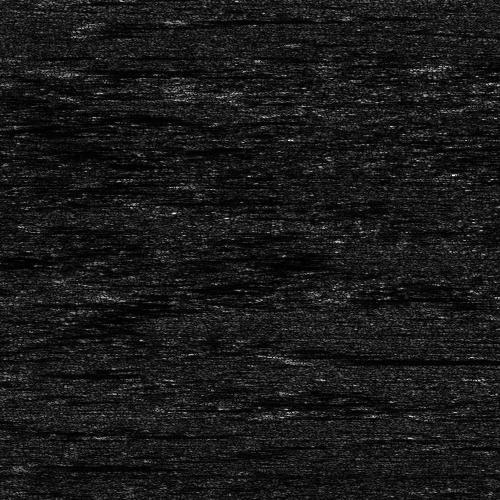object: (10, 63, 73, 74), (140, 14, 213, 21), (411, 63, 474, 68), (280, 356, 333, 361), (9, 459, 30, 466)
shadow: (41, 63, 186, 74), (177, 14, 328, 21), (307, 356, 500, 361), (19, 459, 149, 466), (0, 353, 65, 358), (442, 63, 500, 68)
